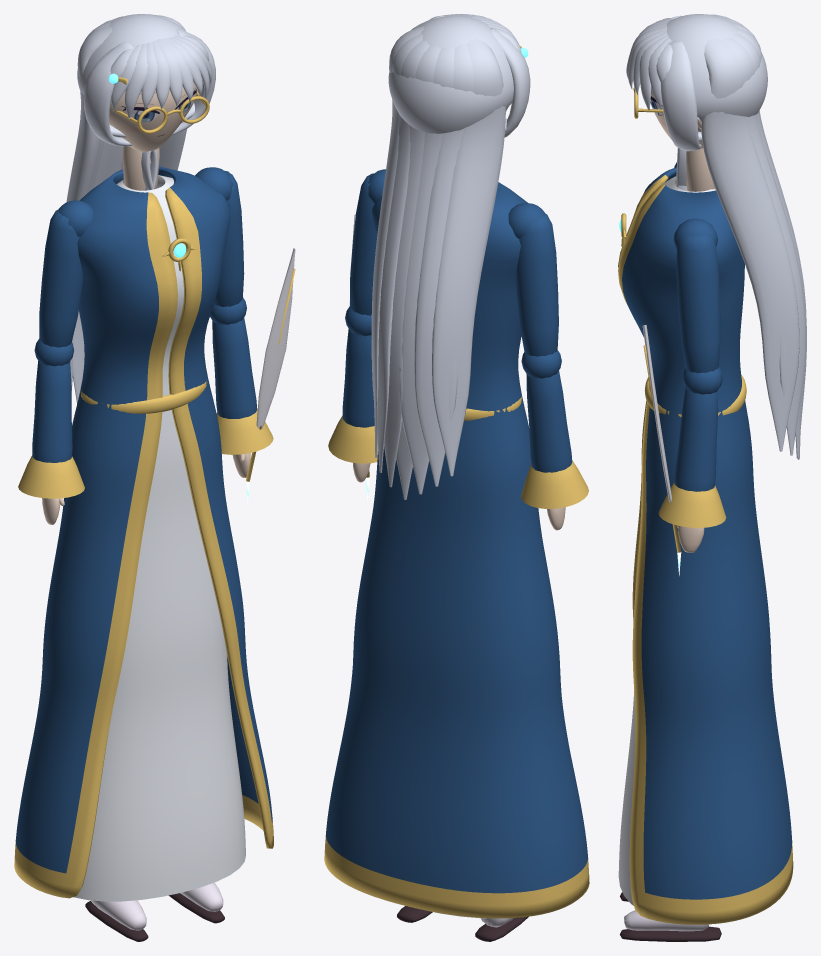
The model's file is vesper.glb.
The picture shows the model from 3 angles, left to right: view 1: azimuth 30°, elevation 25°; view 2: azimuth 150°, elevation 25°; view 3: azimuth 270°, elevation 25°; orthographic projection. The views are drawn at different scales.
Parts seen in each view (by area): view 1: vesper:body.mesh, vesper:head.mesh, vesper:foreR.mesh, vesper:foreL.mesh, vesper:armL.mesh, vesper:armR.mesh, vesper:shinL.mesh, vesper:shinR.mesh; view 2: vesper:body.mesh, vesper:head.mesh, vesper:foreL.mesh, vesper:armL.mesh, vesper:foreR.mesh, vesper:armR.mesh, vesper:shinL.mesh; view 3: vesper:body.mesh, vesper:head.mesh, vesper:foreR.mesh, vesper:armR.mesh, vesper:shinR.mesh.
Boxes of the visible parts, box(x1,y1,x2,y2) form: vesper:body.mesh: box(14, 166, 273, 901); vesper:head.mesh: box(66, 14, 215, 403); vesper:foreR.mesh: box(210, 248, 295, 505); vesper:foreL.mesh: box(18, 338, 84, 524); vesper:armL.mesh: box(39, 200, 93, 347); vesper:armR.mesh: box(195, 167, 244, 306); vesper:shinL.mesh: box(85, 900, 148, 941); vesper:shinR.mesh: box(168, 882, 224, 923); vesper:body.mesh: box(324, 182, 589, 918); vesper:head.mesh: box(371, 14, 530, 499); vesper:foreL.mesh: box(521, 350, 588, 530); vesper:armL.mesh: box(508, 203, 558, 356); vesper:foreR.mesh: box(328, 214, 378, 501); vesper:armR.mesh: box(350, 169, 385, 315); vesper:shinL.mesh: box(475, 916, 528, 941); vesper:body.mesh: box(618, 167, 793, 924); vesper:head.mesh: box(626, 14, 806, 459); vesper:foreR.mesh: box(642, 325, 726, 575); vesper:armR.mesh: box(673, 218, 720, 373); vesper:shinR.mesh: box(620, 910, 721, 941).
Size of the model in its own units: 0.5058 by 1.72 by 0.3265.
Materials: 19 (1 with a texture image).
